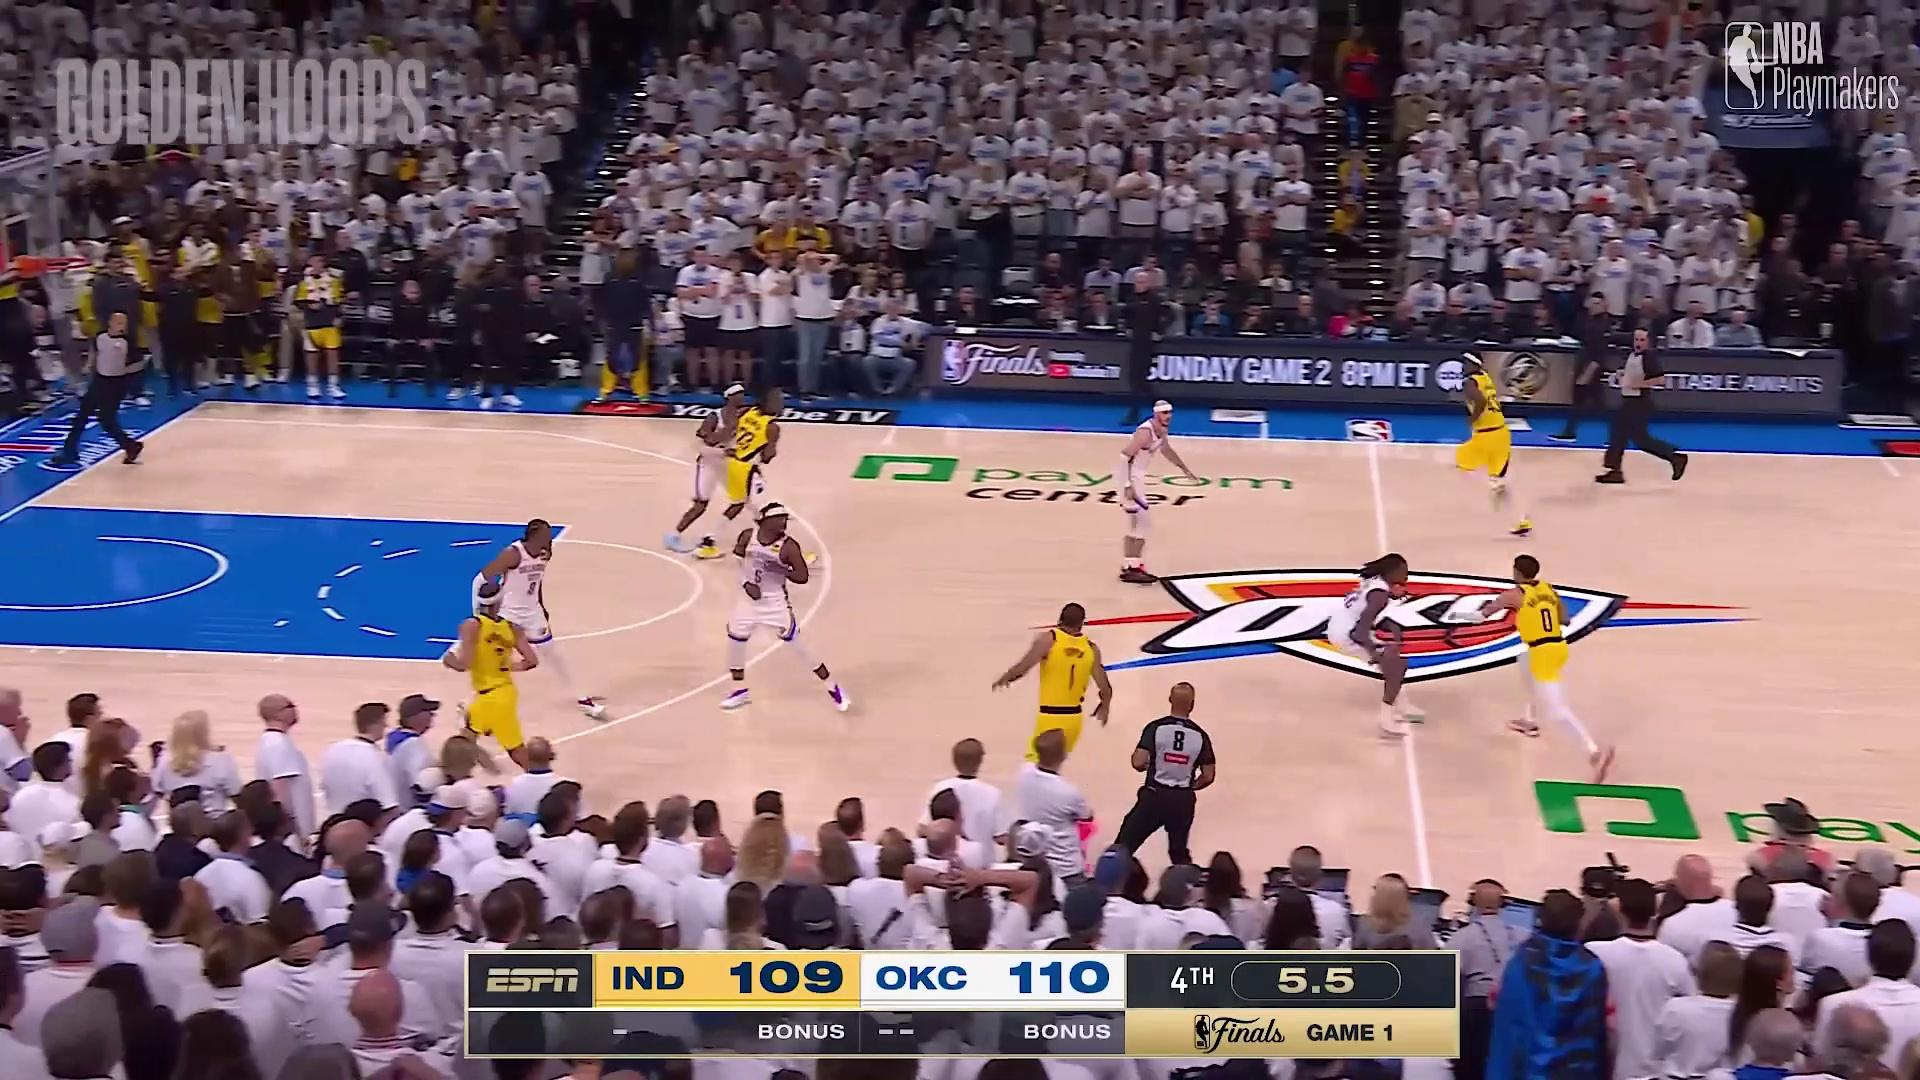hoop: (38, 235, 100, 320)
